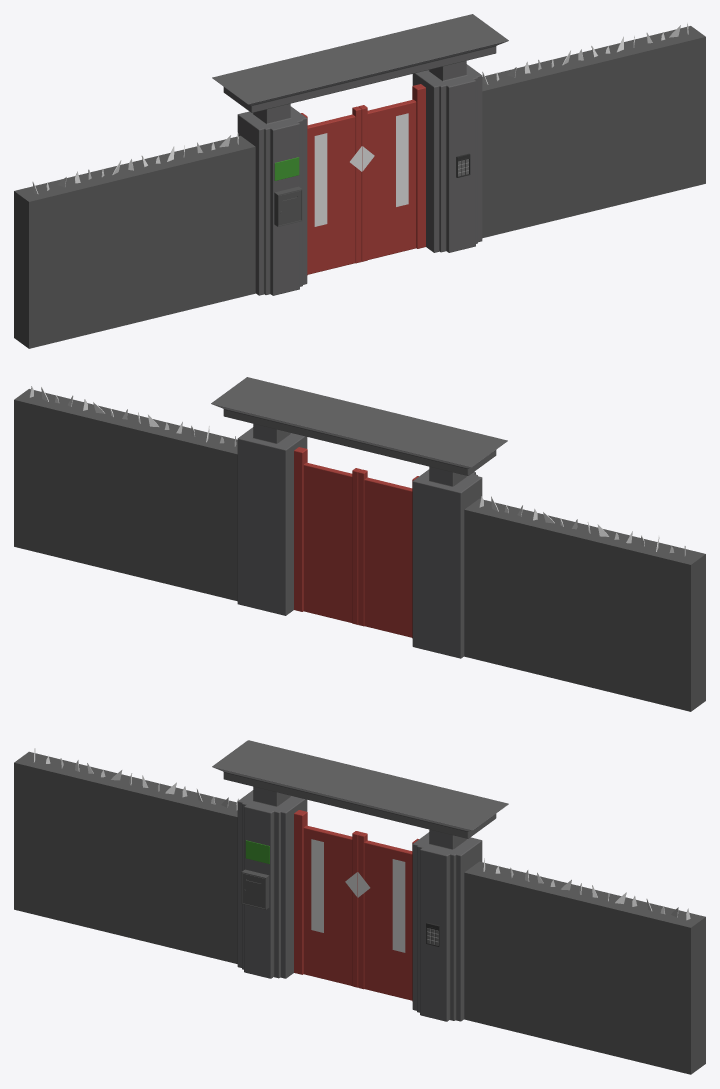
Rendered from L1_Gete.fbx.
3 renders of one model, top to bottom at view 1: azimuth 30°, elevation 25°; view 2: azimuth 150°, elevation 25°; view 3: azimuth 330°, elevation 25°, orthographic.
Parts seen in each view (by area): view 1: L1_Wall, L1_Pillar, L1_Top, L1_GateR, L1_GateL, L1_Pillar1, L1_SCoupletsL, L1_SCoupletsR, L1_Mailbox, L1_Glass, L1_Glass1; view 2: L1_Wall, L1_Pillar, L1_Top, L1_GateR, L1_GateL, L1_Pillar1, L1_Glass1, L1_Glass; view 3: L1_Wall, L1_Pillar, L1_Top, L1_GateL, L1_GateR, L1_Pillar1, L1_SCoupletsR, L1_SCoupletsL, L1_Mailbox, L1_Glass, L1_Glass1.
Boxes of the visible parts, left/top/right/bottom form: L1_Wall: left=14, top=26, right=705, bottom=348; L1_Pillar: left=237, top=60, right=482, bottom=295; L1_Top: left=212, top=14, right=508, bottom=112; L1_GateR: left=358, top=99, right=416, bottom=261; L1_GateL: left=307, top=106, right=361, bottom=274; L1_Pillar1: left=301, top=84, right=425, bottom=275; L1_SCoupletsL: left=314, top=133, right=327, bottom=226; L1_SCoupletsR: left=396, top=113, right=408, bottom=206; L1_Mailbox: left=274, top=186, right=302, bottom=226; L1_Glass: left=482, top=22, right=688, bottom=84; L1_Glass1: left=32, top=132, right=238, bottom=194; L1_Wall: left=14, top=389, right=705, bottom=711; L1_Pillar: left=237, top=423, right=482, bottom=658; L1_Top: left=211, top=377, right=507, bottom=475; L1_GateR: left=303, top=462, right=361, bottom=624; L1_GateL: left=358, top=469, right=412, bottom=637; L1_Pillar1: left=294, top=447, right=418, bottom=638; L1_Glass1: left=479, top=496, right=685, bottom=556; L1_Glass: left=29, top=386, right=236, bottom=446; L1_Wall: left=14, top=751, right=705, bottom=1074; L1_Pillar: left=237, top=786, right=482, bottom=1021; L1_Top: left=212, top=740, right=508, bottom=838; L1_GateL: left=303, top=825, right=361, bottom=987; L1_GateR: left=358, top=832, right=412, bottom=1000; L1_Pillar1: left=294, top=810, right=418, bottom=1001; L1_SCoupletsR: left=392, top=859, right=405, bottom=952; L1_SCoupletsL: left=311, top=839, right=323, bottom=932; L1_Mailbox: left=241, top=869, right=269, bottom=909; L1_Glass: left=483, top=858, right=690, bottom=920; L1_Glass1: left=34, top=748, right=238, bottom=810.
Bounding box in the file's own units: 11.09 × 3.16 × 1.04.
